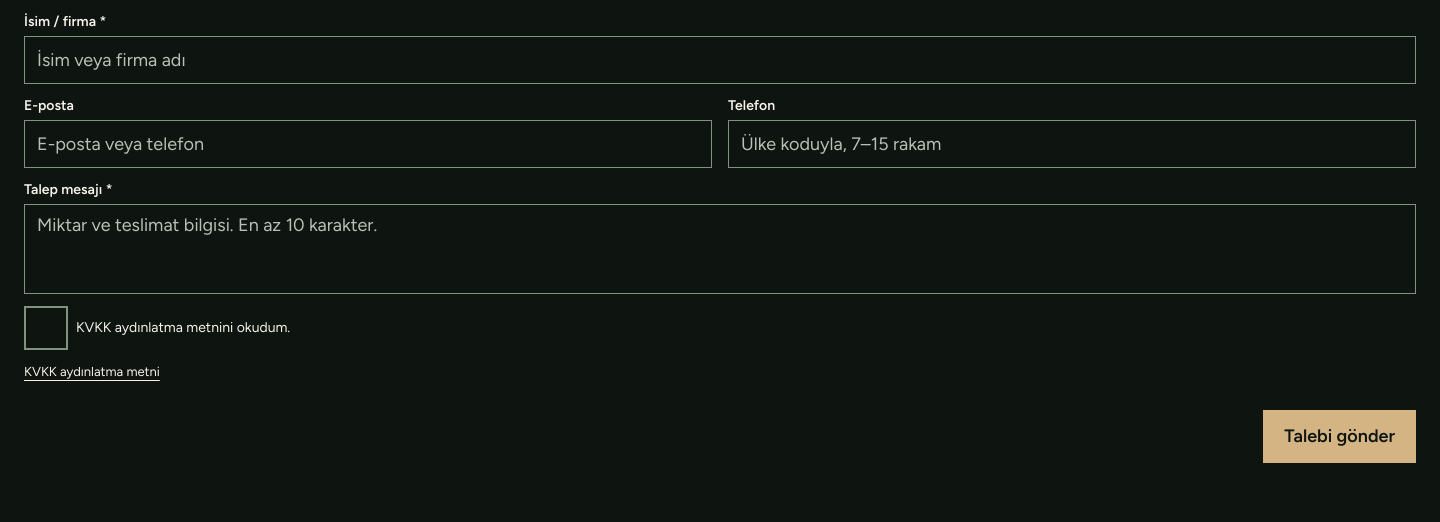
Test: retains entered values on rejection and allows a successful retry
Step 1. Click the checkbox labelled "KVKK aydınlatma metnini okudum." → (46, 328), box [24,306,68,350]
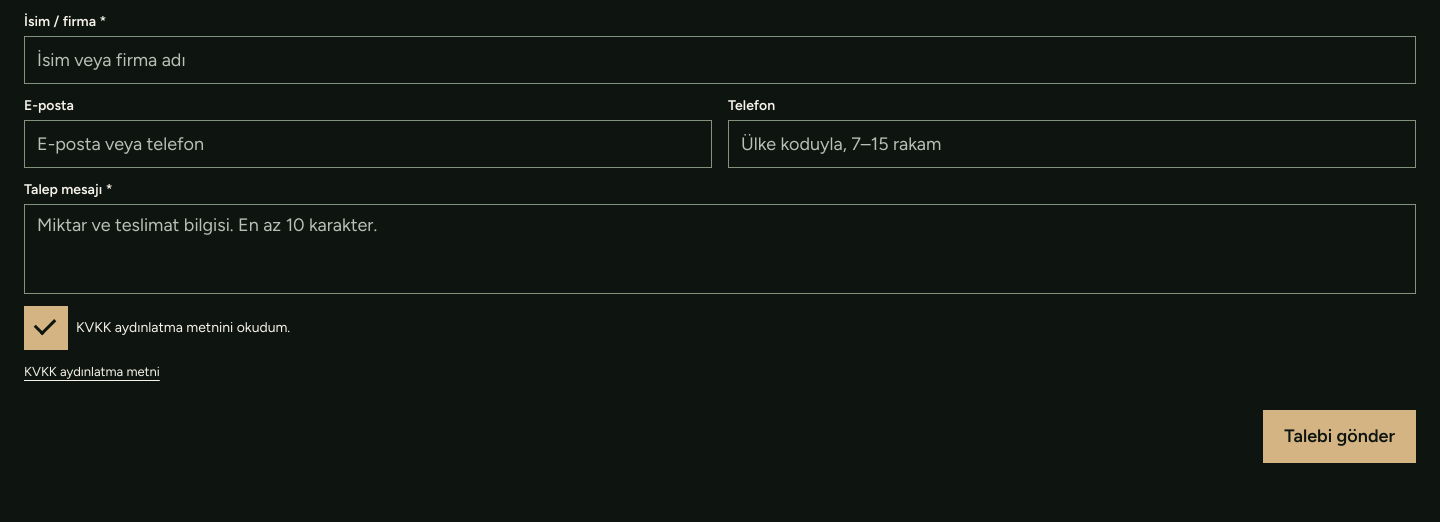
Step 2. Type "  Örnek Firma  " into the field labelled "İsim / firma" → (720, 60), box [24,36,1416,84]
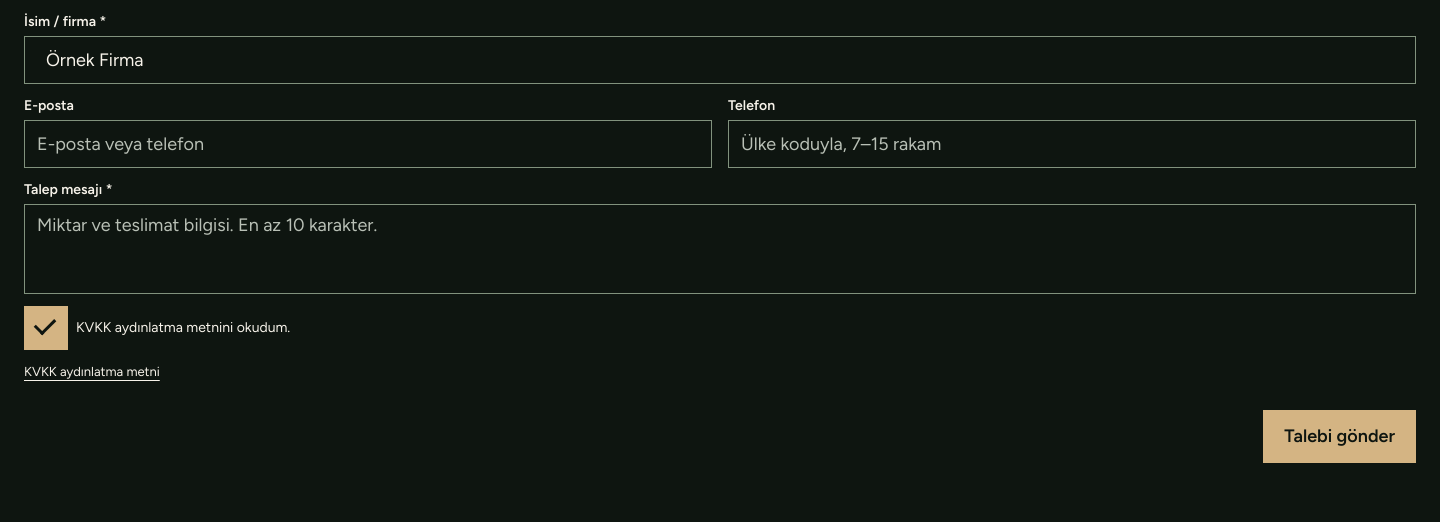
Step 3. Type "talep@example.test" into the field labelled "E-posta" → (368, 144), box [24,120,712,168]
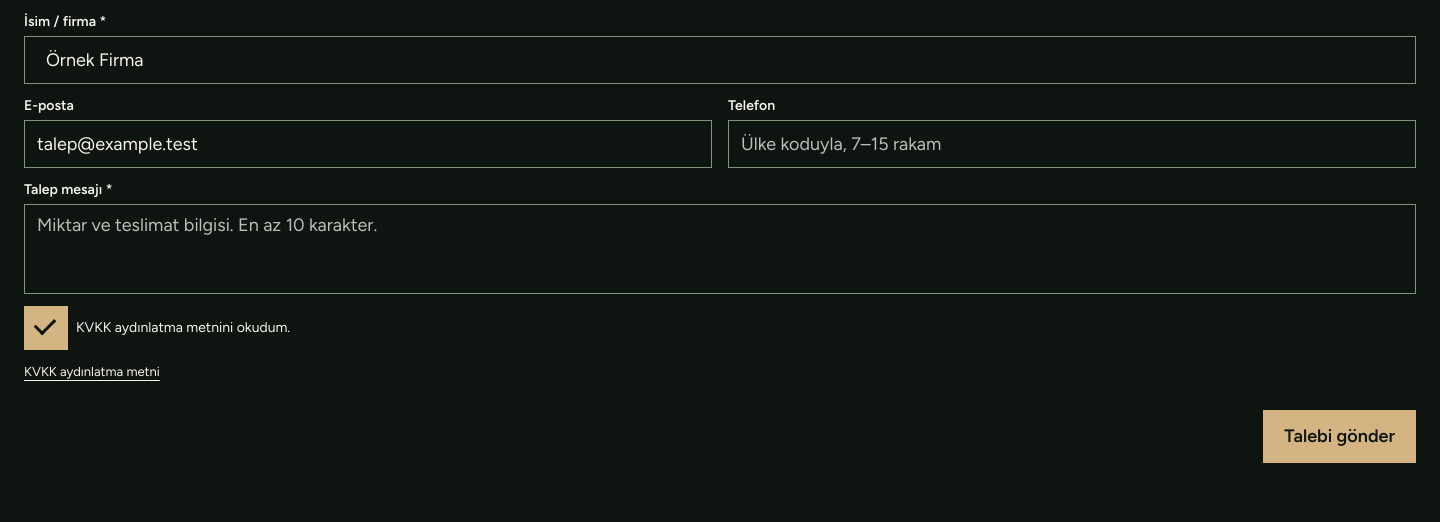
Step 4. Type "  Zeytin için bilgi rica ederim.  " into the text box labelled "Talep mesajı" → (720, 249), box [24,204,1416,294]
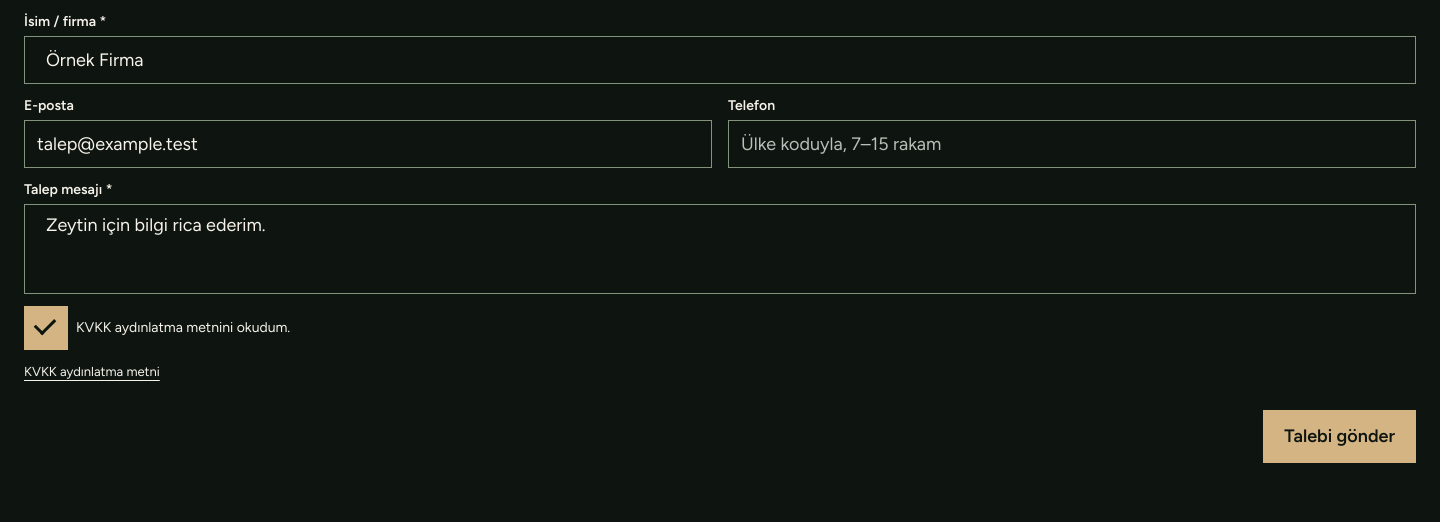
Step 5. Submit the form named "Toptan teklif isteyin"
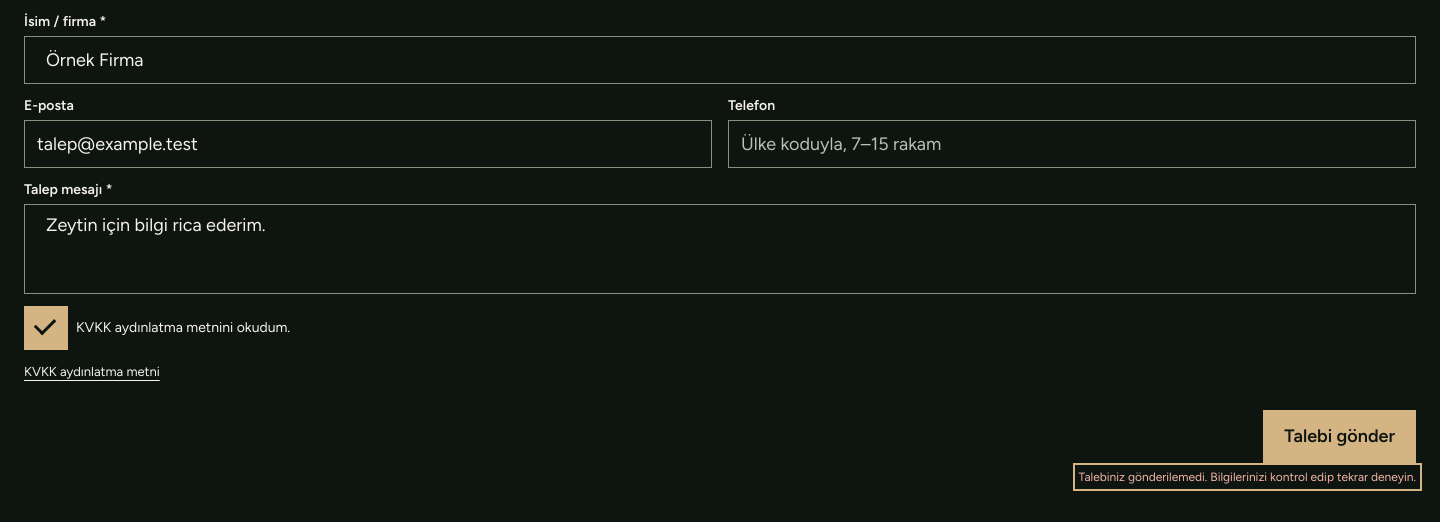
Check: the message shows "Talebiniz gönderilemedi.", box [1079,470,1416,484]
Step 6. Submit the form named "Toptan teklif isteyin"
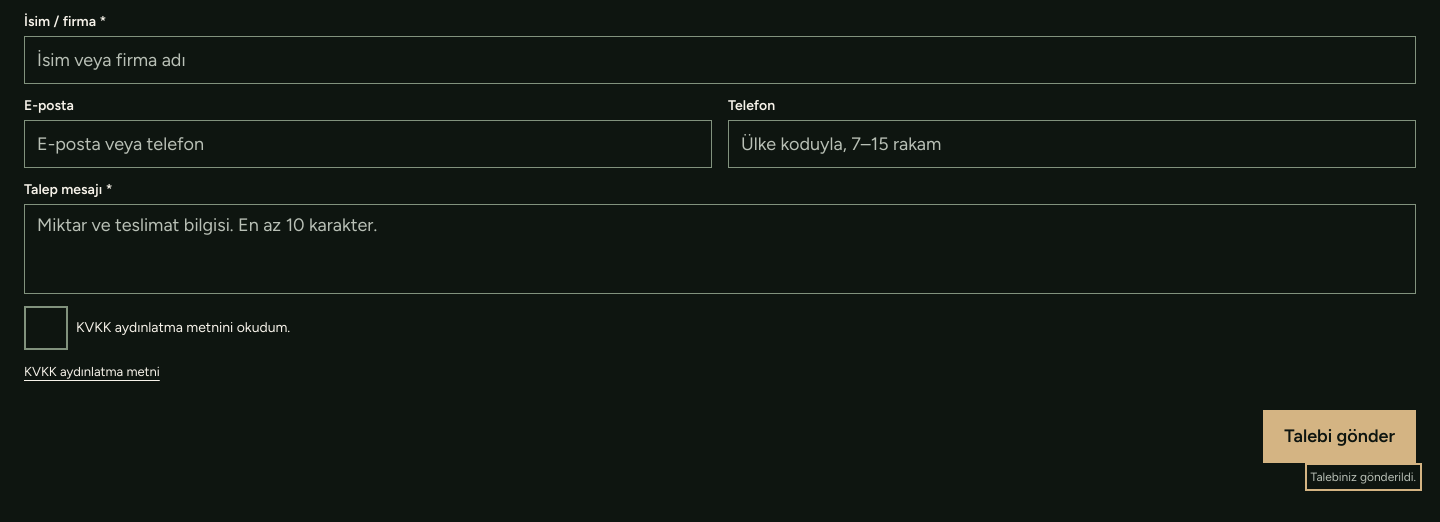
Check: the message reads "Talebiniz gönderildi.", box [1311,470,1416,484]
